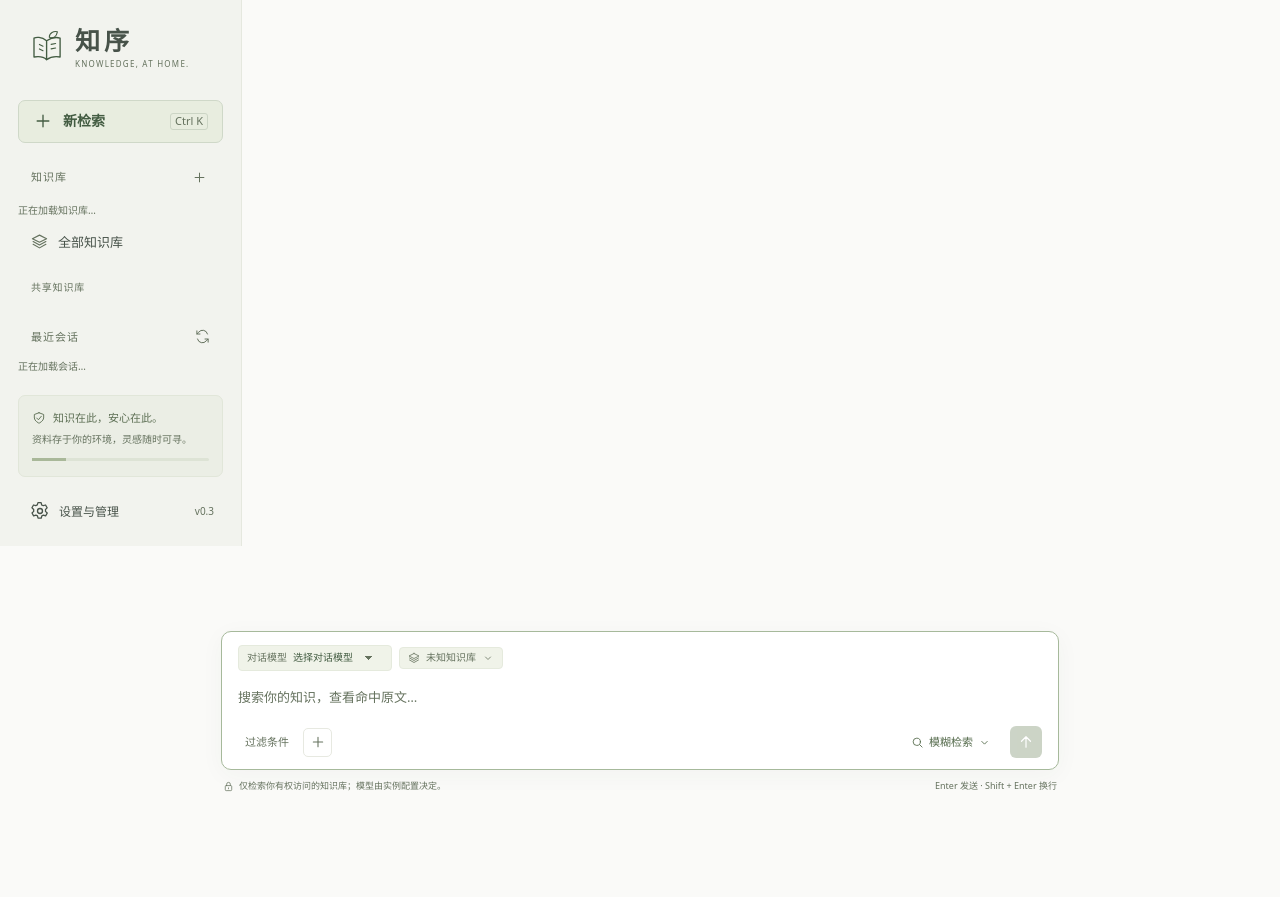
Scenario: 模糊检索发送过滤快照，分页结果落库并展示真实命中信息
Type "神经网络" into the text box named "检索问题". click: (640, 695)
box: top-left (238, 671), bottom-right (1042, 720)
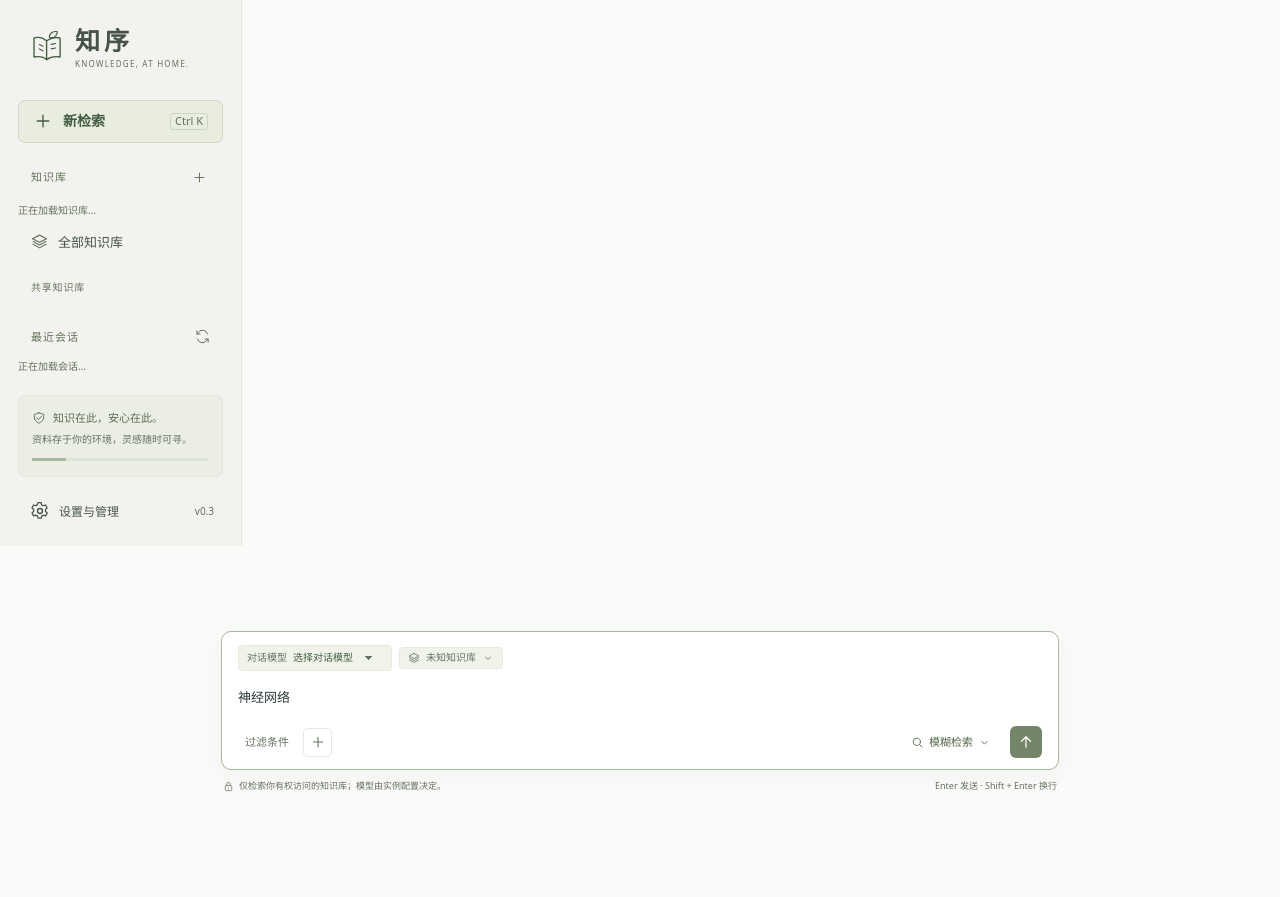
Click the button named "发送检索". click: (1026, 742)
box: top-left (1010, 726), bottom-right (1042, 758)
(page scrolled)
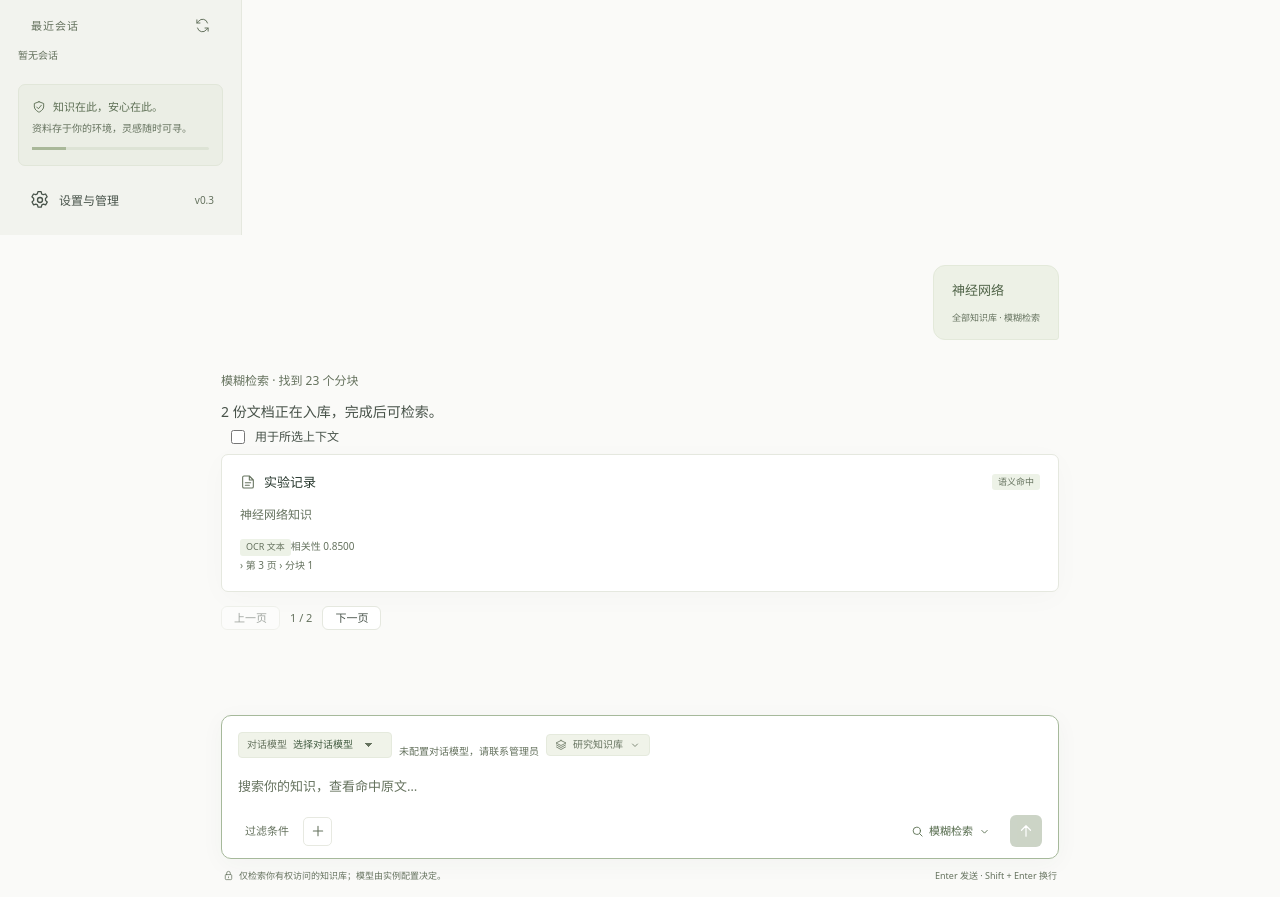
Expected: the heading "实验记录" is shown, top-left (240, 472), bottom-right (316, 492)
Expected: the text "语义命中" is shown, top-left (992, 474), bottom-right (1040, 490)
Expected: the text "OCR 文本" is shown, top-left (240, 539), bottom-right (291, 556)
Click the button "下一页". click: (352, 618)
box: top-left (322, 606), bottom-right (381, 630)
(page scrolled)
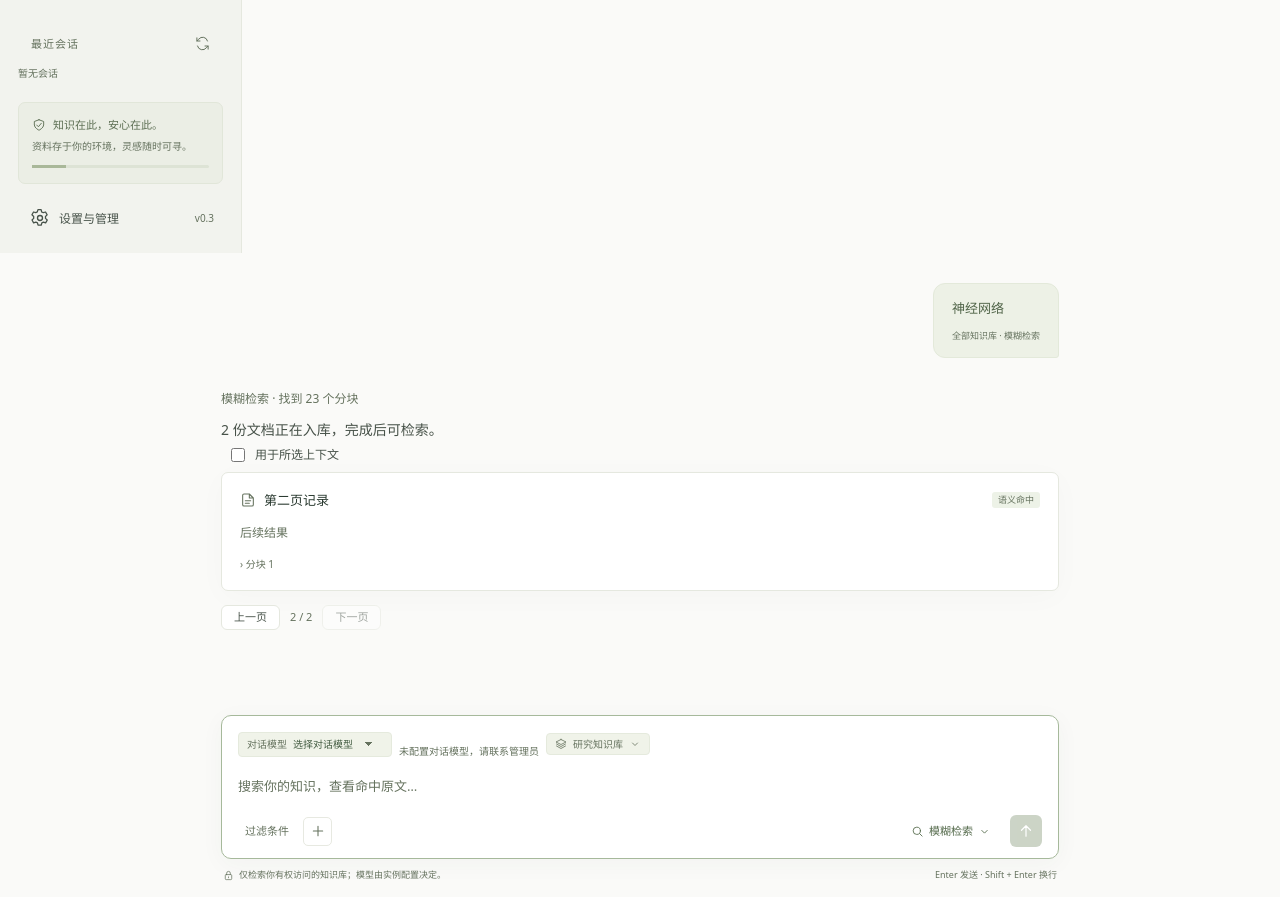
Expected: the heading "第二页记录" is shown, top-left (240, 490), bottom-right (329, 510)
